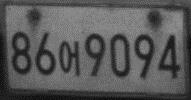0: (109, 32, 131, 78)
4: (157, 33, 180, 80)
6: (34, 30, 56, 76)
8: (9, 30, 33, 75)
9: (132, 33, 155, 80), (83, 32, 105, 77)
어: (58, 39, 81, 76)
